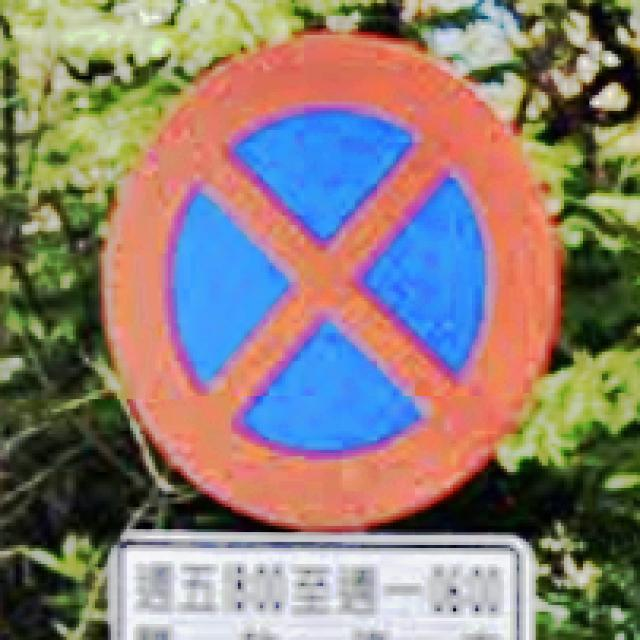nopark: (101, 32, 564, 532)
